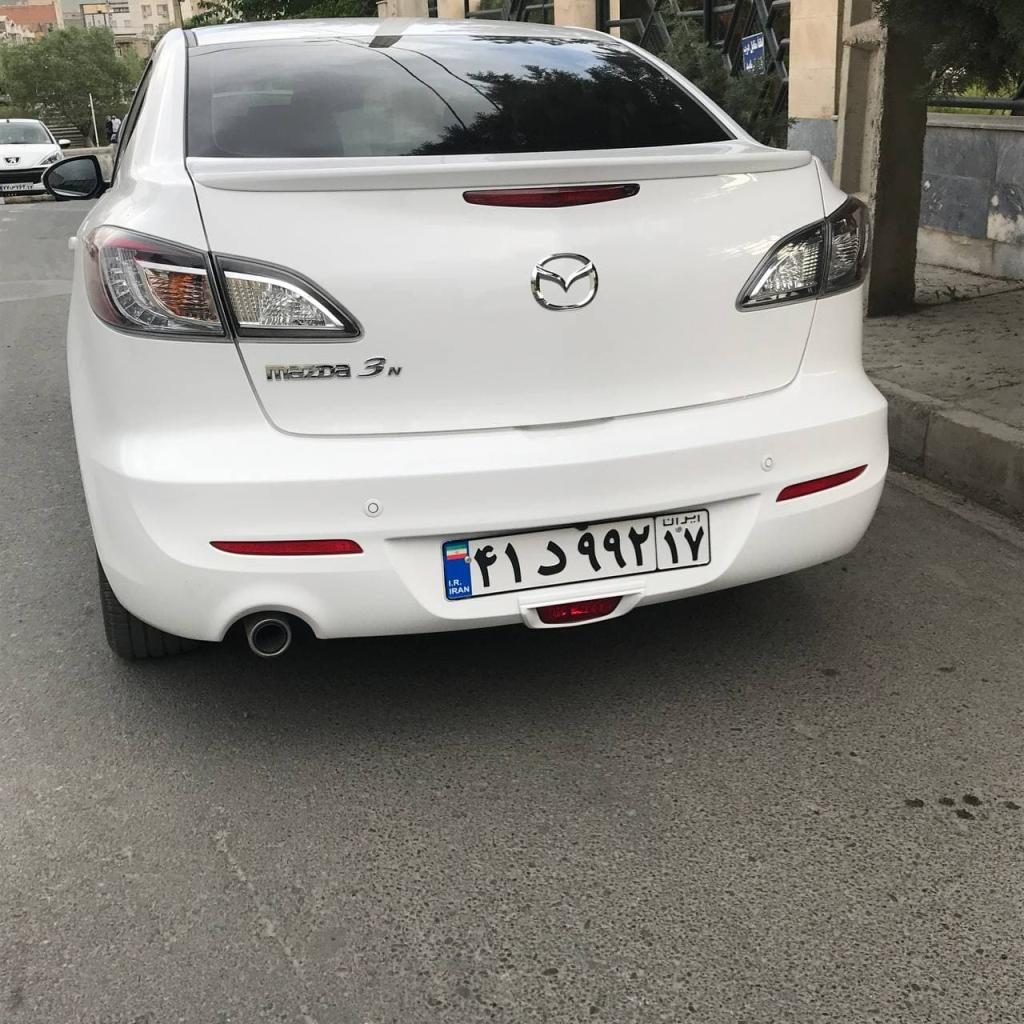Plates: (444, 510, 710, 600)
